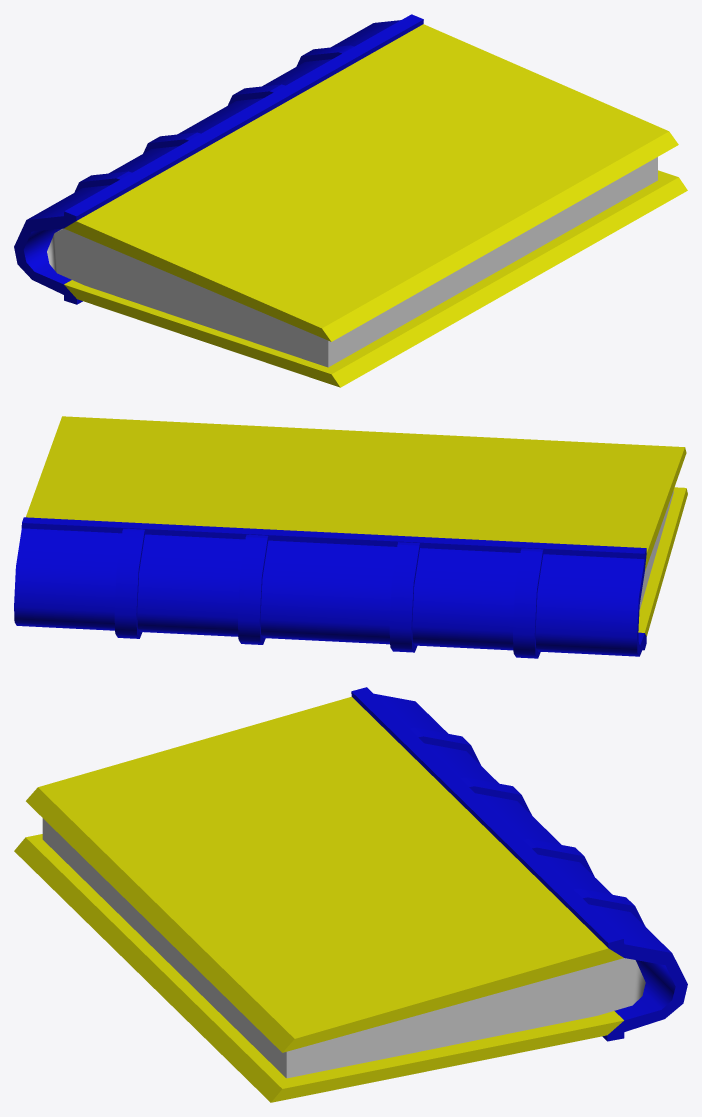
The model's file is SM_Notebook_001.fbx.
The picture shows the model from 3 angles, top to bottom: view 1: azimuth 30°, elevation 25°; view 2: azimuth 150°, elevation 25°; view 3: azimuth 270°, elevation 25°; orthographic projection. The views are drawn at different scales.
Parts seen in each view (by area): view 1: Notebooks_001; view 2: Notebooks_001; view 3: Notebooks_001.
Part boxes in pixels (x1=…): Notebooks_001: x1=14, y1=14, x2=687, y2=387; Notebooks_001: x1=14, y1=416, x2=687, y2=658; Notebooks_001: x1=14, y1=687, x2=687, y2=1102.
Size of the model in its own units: 26.99 by 3.83 by 23.45.
